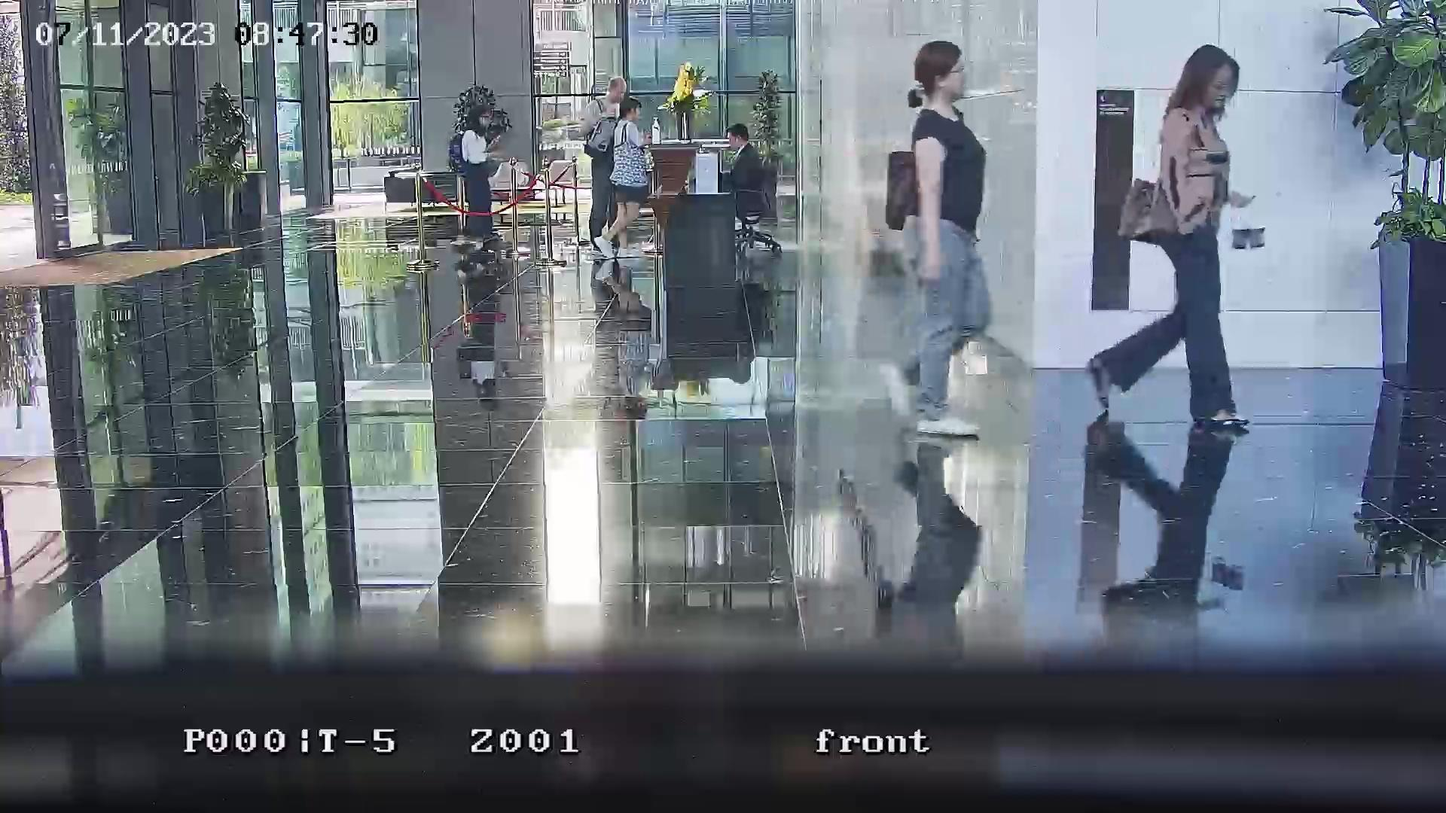person: (1087, 45, 1255, 436), (901, 39, 992, 435), (592, 98, 654, 254), (583, 76, 627, 246), (457, 110, 511, 239), (721, 123, 767, 226)
